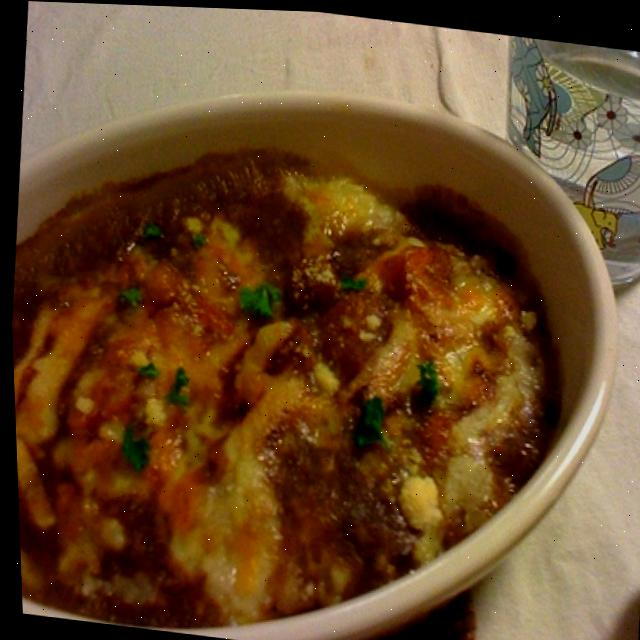米饭主食: (2, 69, 617, 640)
